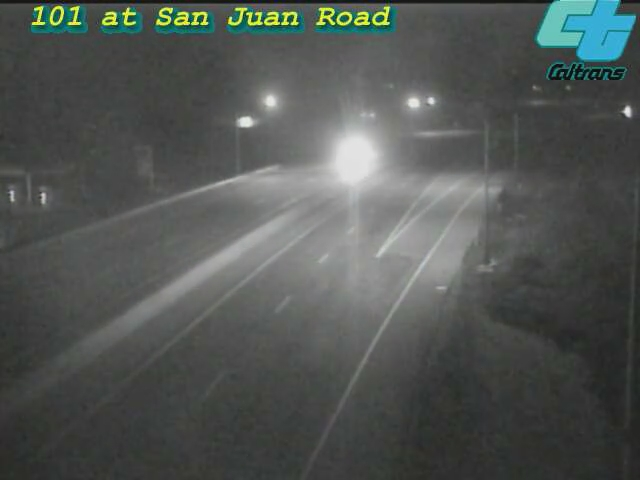vehicle: (326, 133, 376, 183), (601, 87, 640, 137)
